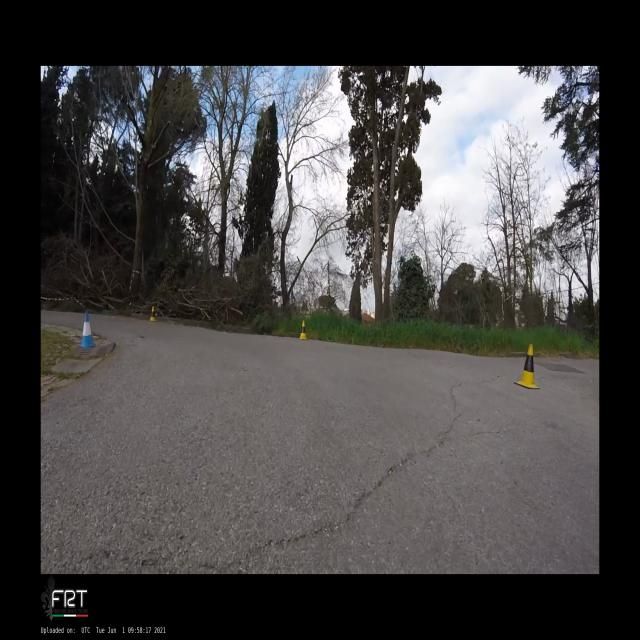blue_cone: (79, 310, 96, 347)
yellow_cone: (514, 344, 540, 389), (299, 320, 307, 340), (149, 306, 157, 322)
